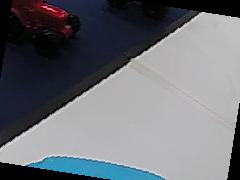Tracktor: (8, 0, 82, 47)
